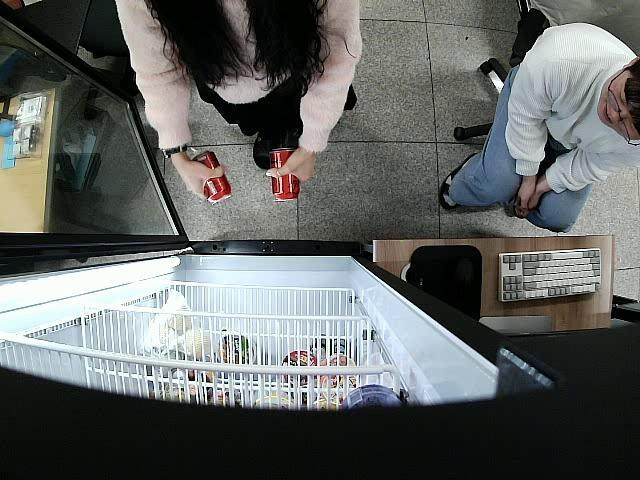11_cocaColaZero: (190, 150, 233, 206), (270, 146, 300, 204)
